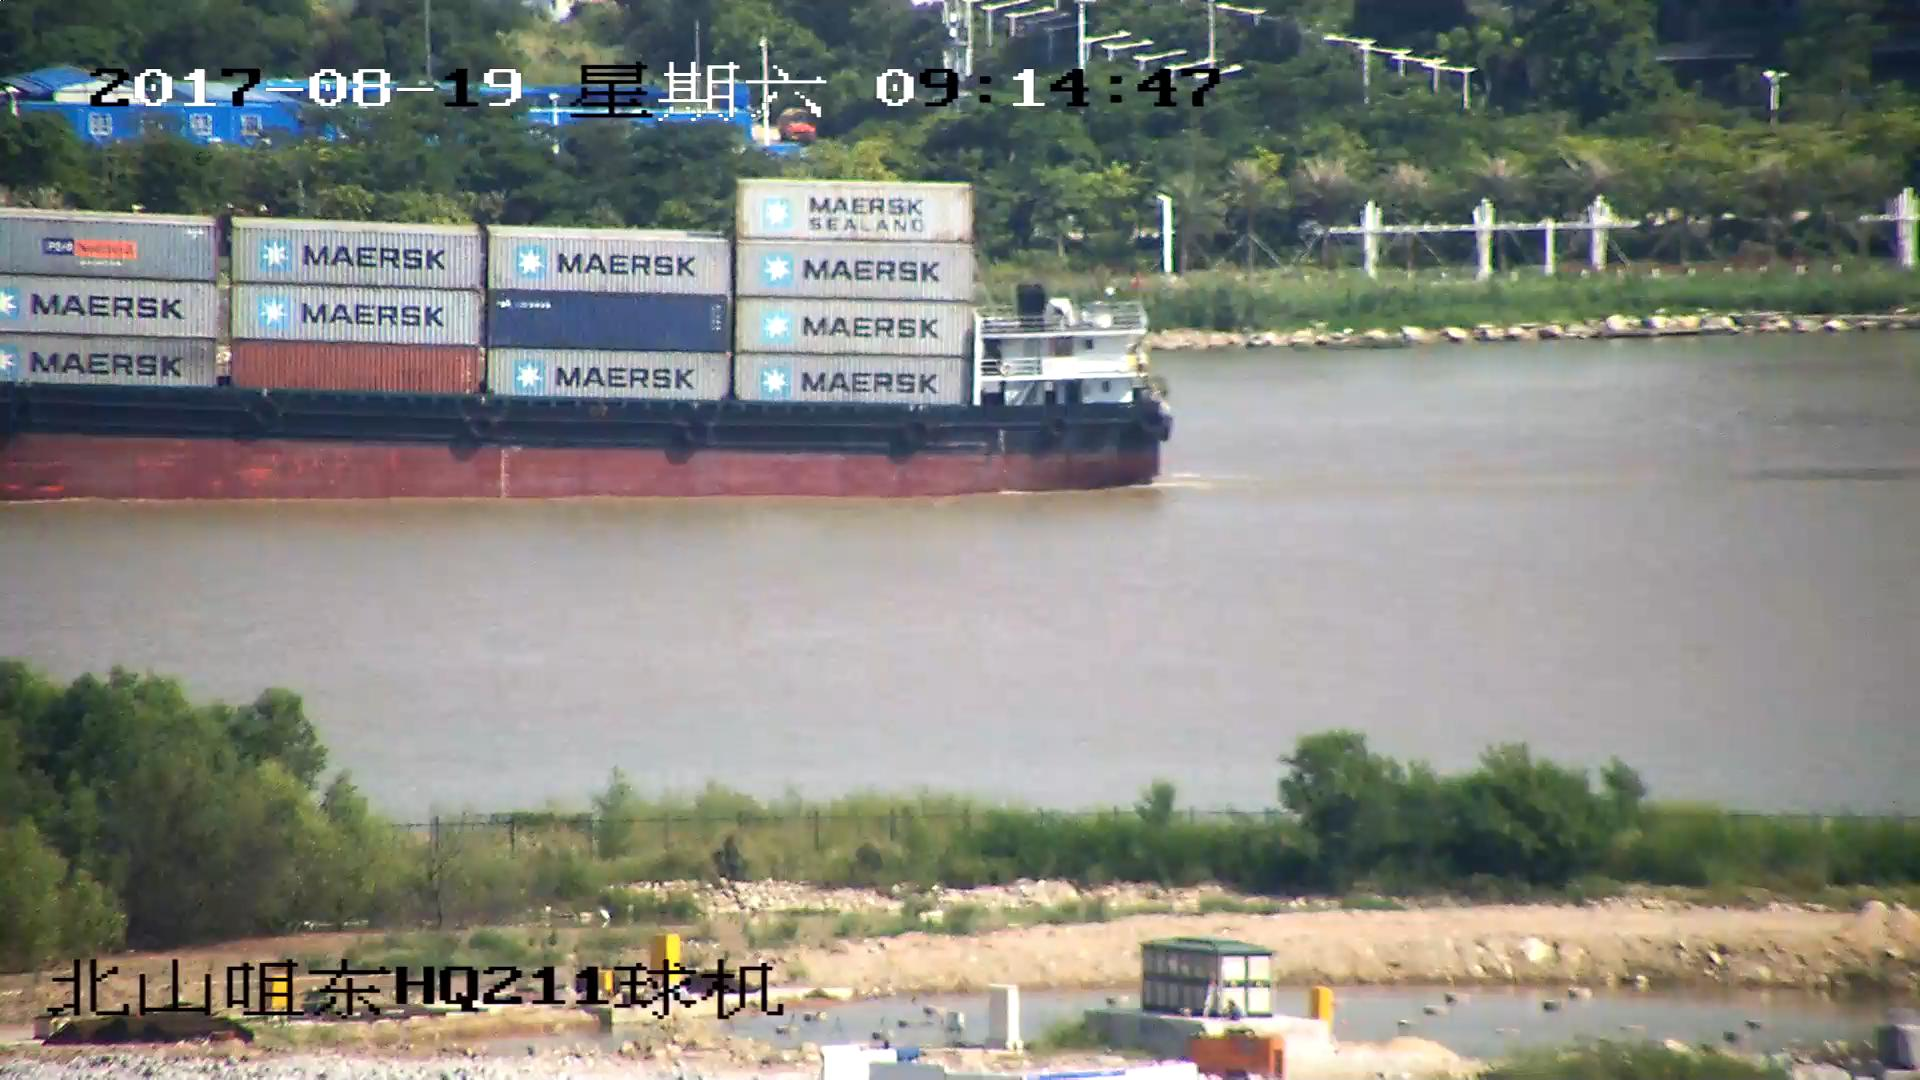container ship: (1, 174, 1165, 499)
